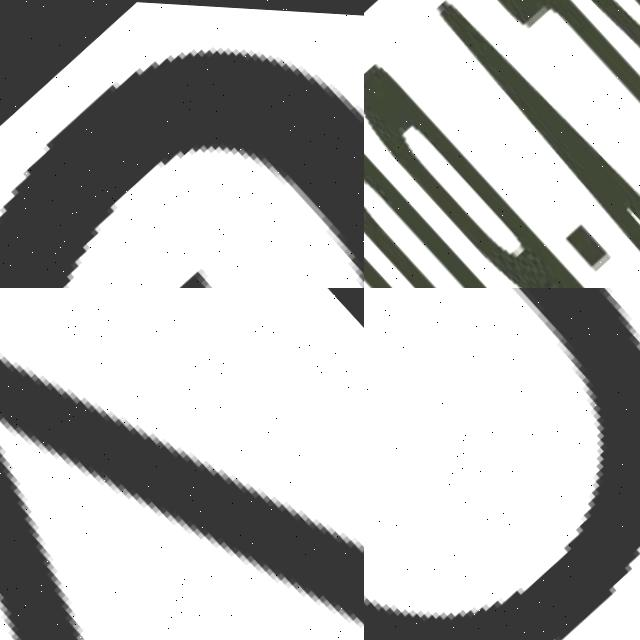B: (364, 56, 640, 288)
D: (364, 105, 640, 288)
E: (364, 205, 582, 288)
G: (0, 0, 364, 288)
L: (471, 0, 640, 288)
O: (364, 288, 640, 640)
R: (510, 0, 640, 288)
U: (364, 144, 640, 288)
V: (0, 288, 364, 640), (390, 0, 640, 288)
